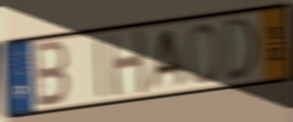A: (145, 26, 189, 93)
B: (33, 39, 71, 111)
D: (223, 14, 260, 86)
H: (106, 26, 150, 99)
I: (92, 33, 106, 103)
O: (185, 21, 222, 86)
